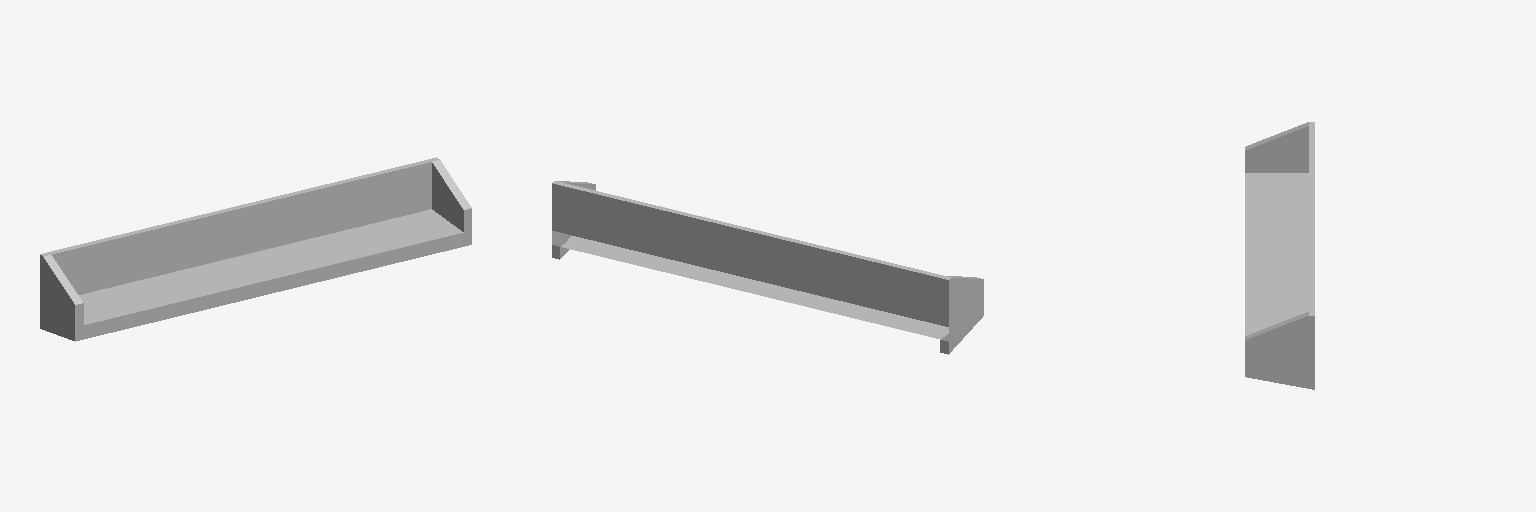
File: WallShelf.obj
The picture shows the model from 3 angles: view 1: azimuth 30°, elevation 25°; view 2: azimuth 150°, elevation 25°; view 3: azimuth 270°, elevation 25°; orthographic projection.
Visible parts, largest first — view 1: Cube.002_Cube.001; view 2: Cube.002_Cube.001; view 3: Cube.002_Cube.001.
Part boxes in pixels (bbox=[...]): Cube.002_Cube.001: bbox=[40, 157, 471, 341]; Cube.002_Cube.001: bbox=[552, 181, 983, 354]; Cube.002_Cube.001: bbox=[1245, 122, 1314, 389].
Bounding box in the file's own units: 4 × 0.7177 × 0.6183.